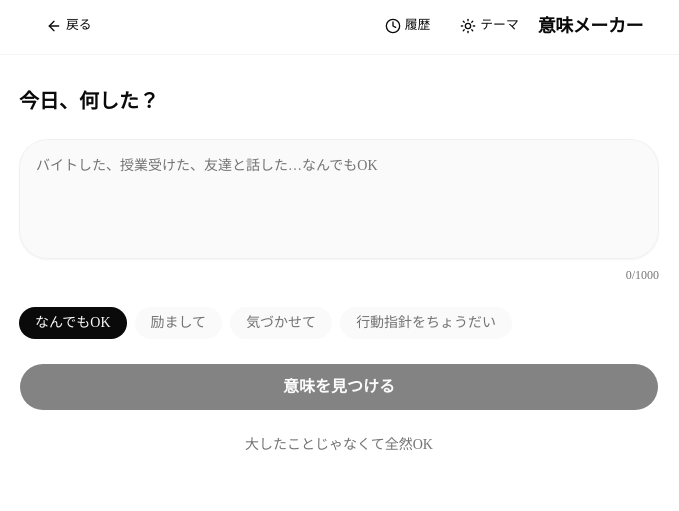
Test: InputPage › should show error on API failure
The width and height of the screenshot is (679, 511).
Type "バイトした" into the text box named "今日やったこと".
click(339, 199); type("バイトした")  # box [19,139,659,259]
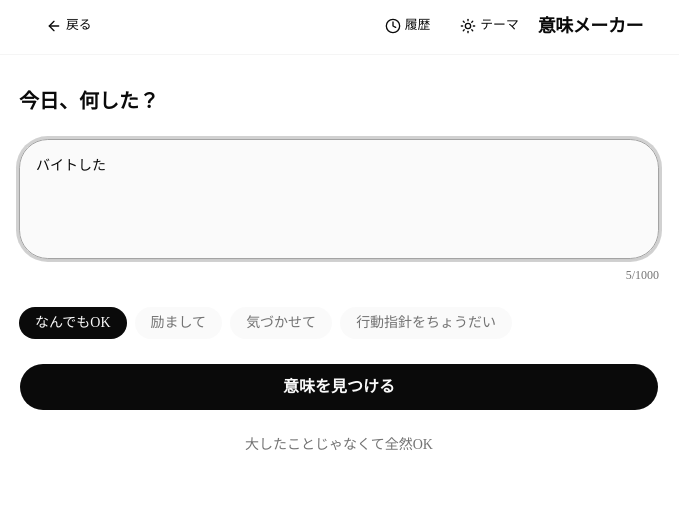
Click the button "意味を見つける".
click(339, 387)  # box [19,363,659,411]
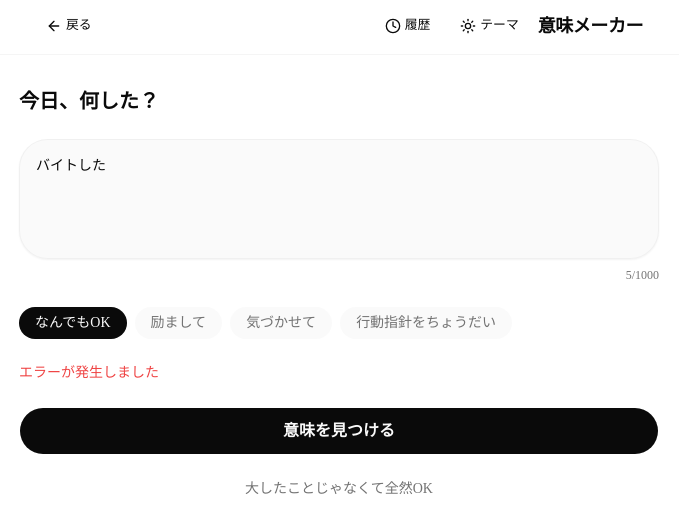
Expected: the message reads "エラーが発生しました", [19,365,159,380]
